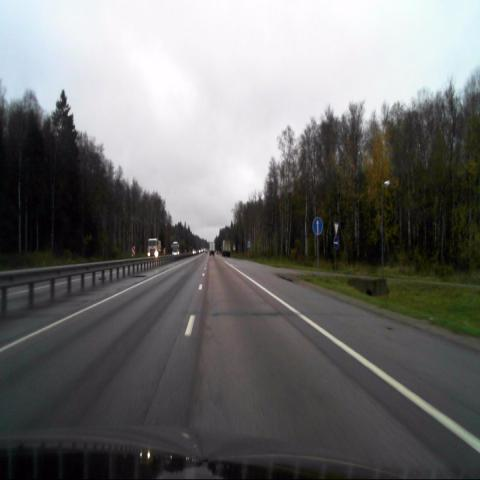4_1_1: (312, 216, 323, 234)
